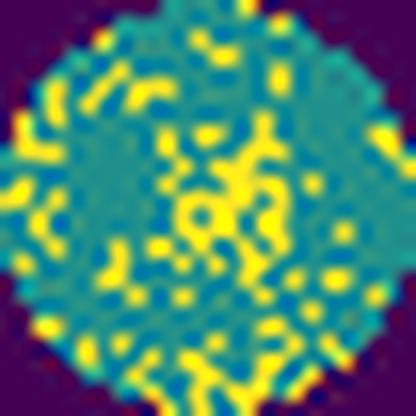Center: (139, 115, 296, 295)
